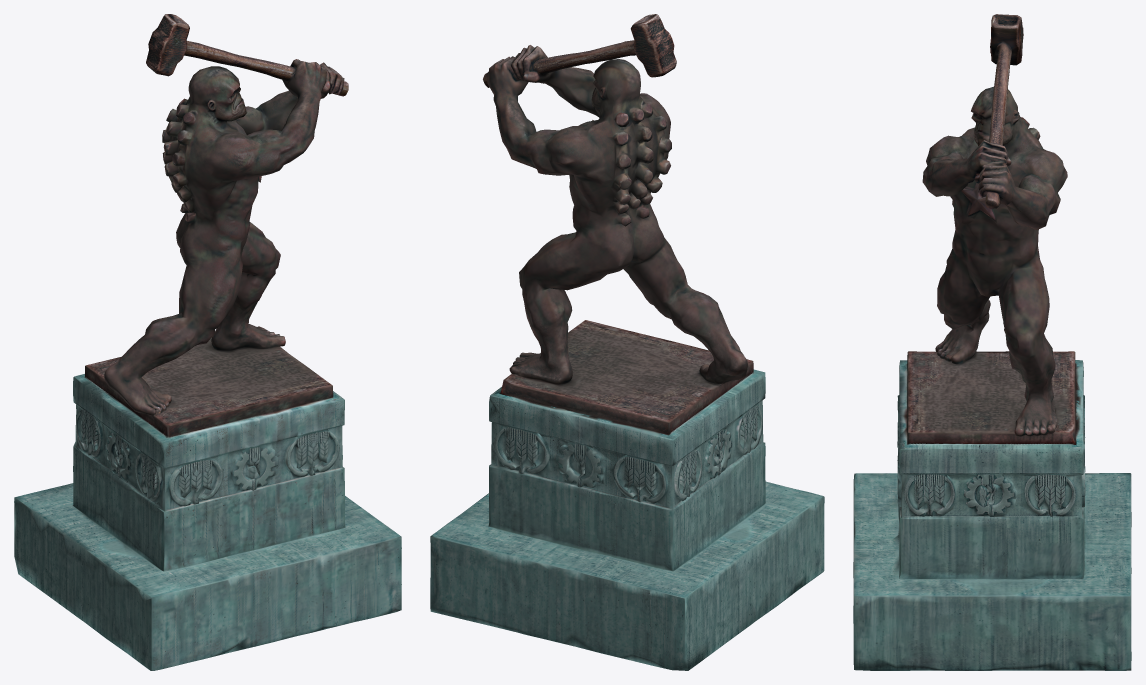
File: szukalski-centerpiece.glb
3 views of the same model, side by side, from view 1: azimuth 30°, elevation 25°; view 2: azimuth 150°, elevation 25°; view 3: azimuth 270°, elevation 25° (orthographic).
Visible parts, largest first — view 1: tripo_node_5005f227-6afb-4cf6-9d75-c8bbcab27a89; view 2: tripo_node_5005f227-6afb-4cf6-9d75-c8bbcab27a89; view 3: tripo_node_5005f227-6afb-4cf6-9d75-c8bbcab27a89.
Boxes of the visible parts, bbox=[...] form: tripo_node_5005f227-6afb-4cf6-9d75-c8bbcab27a89: bbox=[14, 14, 401, 670]; tripo_node_5005f227-6afb-4cf6-9d75-c8bbcab27a89: bbox=[430, 14, 824, 670]; tripo_node_5005f227-6afb-4cf6-9d75-c8bbcab27a89: bbox=[853, 14, 1131, 670].
Bounding box in the file's own units: 0.4817 × 1 × 0.4344.
1 material, 1 textured.
